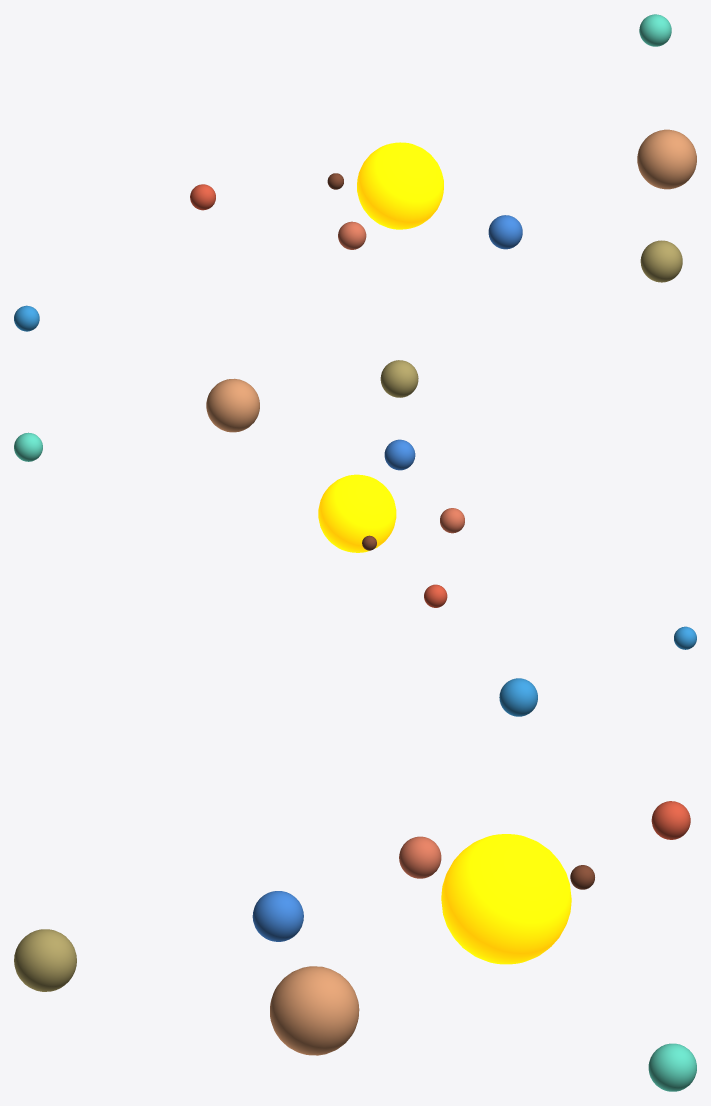
The model's file is asset.glb.
The picture shows the model from 3 angles, top to bottom: view 1: azimuth 30°, elevation 25°; view 2: azimuth 150°, elevation 25°; view 3: azimuth 270°, elevation 25°; orthographic projection. The views are drawn at different scales.
Parts seen in each view (by area): view 1: Sphere, Sphere.005, Sphere.006, Sphere.003, Sphere.007, Sphere.002, Sphere.004, Sphere.008; view 2: Sphere, Sphere.005, Sphere.006, Sphere.003, Sphere.007, Sphere.002; view 3: Sphere, Sphere.005, Sphere.006, Sphere.003, Sphere.007, Sphere.002, Sphere.004, Sphere.008.
Part boxes in pixels (<box>): Sphere: <box>357,142,443,229</box>; Sphere.005: <box>637,129,696,189</box>; Sphere.006: <box>640,240,682,282</box>; Sphere.003: <box>488,215,522,249</box>; Sphere.007: <box>639,14,671,46</box>; Sphere.002: <box>338,221,366,249</box>; Sphere.004: <box>190,184,215,210</box>; Sphere.008: <box>14,305,39,331</box>; Sphere: <box>318,474,396,552</box>; Sphere.005: <box>206,378,259,432</box>; Sphere.006: <box>380,360,418,397</box>; Sphere.003: <box>384,439,415,470</box>; Sphere.007: <box>14,432,42,461</box>; Sphere.002: <box>440,508,464,533</box>; Sphere: <box>441,834,571,964</box>; Sphere.005: <box>270,966,359,1055</box>; Sphere.006: <box>14,929,76,991</box>; Sphere.003: <box>252,891,303,941</box>; Sphere.007: <box>648,1043,696,1091</box>; Sphere.002: <box>399,836,441,878</box>; Sphere.004: <box>651,801,690,839</box>; Sphere.008: <box>499,678,537,716</box>.
Bounding box in the file's own units: 43.22 × 6.48 × 24.24.
